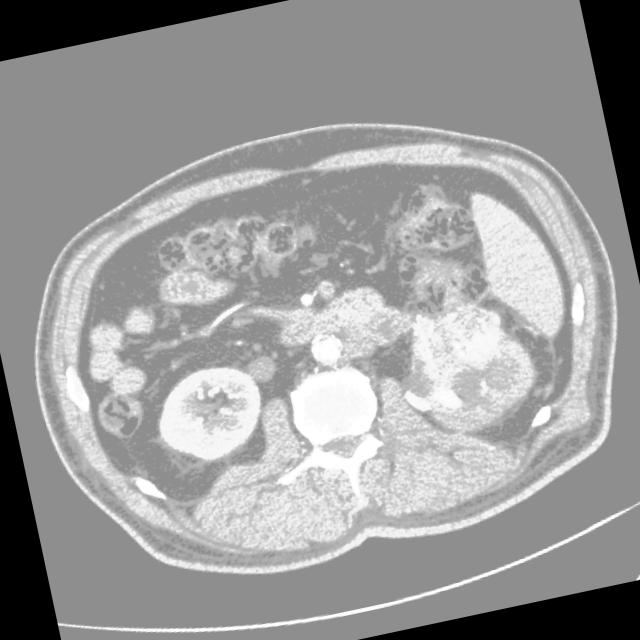TUMOR: (0, 227, 585, 506)
